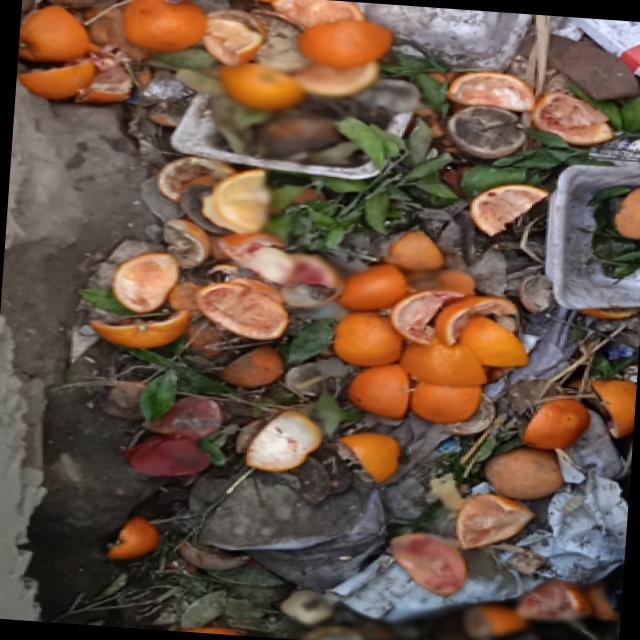paper: (446, 444, 578, 576), (194, 249, 290, 347), (59, 300, 202, 362), (88, 230, 182, 318), (256, 396, 341, 492), (542, 76, 628, 170), (111, 0, 223, 60), (522, 370, 601, 453), (223, 44, 312, 117), (388, 330, 491, 392), (300, 18, 403, 70), (448, 158, 527, 222), (448, 54, 538, 110), (17, 0, 100, 59), (308, 302, 376, 359)
